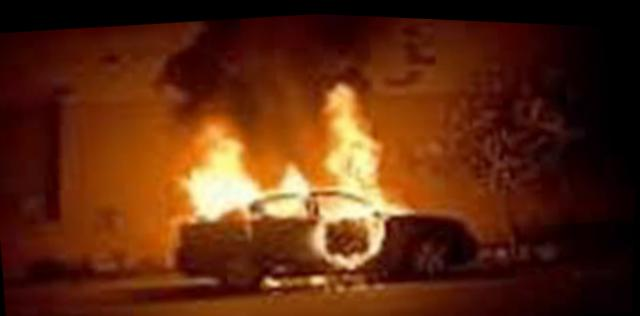fire: (161, 64, 423, 293)
